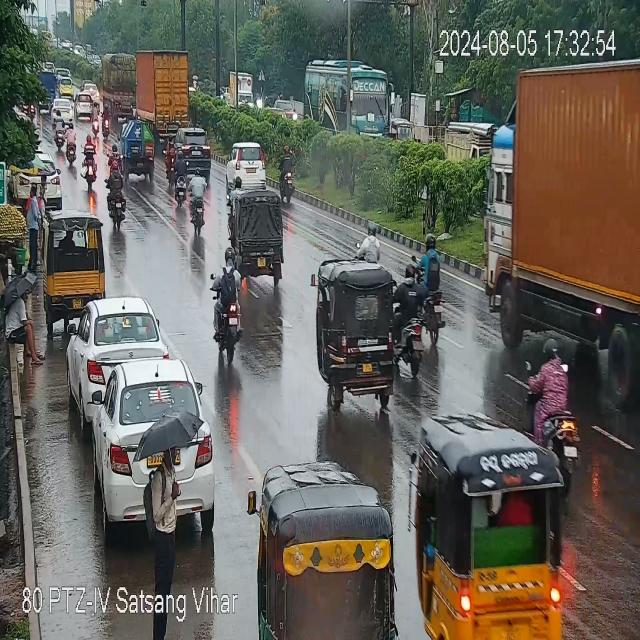2-wheelers: (400, 230, 446, 360), (527, 343, 580, 450), (210, 258, 247, 366), (107, 149, 126, 230), (186, 174, 208, 238), (274, 148, 299, 202), (169, 154, 193, 206), (359, 222, 385, 262), (83, 137, 97, 190), (92, 102, 111, 136), (54, 109, 66, 150), (66, 121, 76, 166)
auto: (415, 419, 572, 640), (249, 464, 394, 640), (318, 270, 400, 406), (45, 213, 108, 315), (226, 192, 287, 282), (116, 114, 158, 178), (393, 115, 411, 141)
bus: (305, 58, 393, 141)
car: (83, 360, 212, 534), (68, 297, 168, 398), (171, 128, 216, 171), (232, 141, 272, 184), (74, 92, 90, 118), (59, 74, 73, 97), (90, 81, 100, 102)
pedestrian: (153, 433, 182, 585), (6, 274, 42, 361), (25, 183, 44, 268)
truck: (492, 56, 640, 383), (138, 51, 202, 130), (101, 48, 138, 112), (447, 120, 489, 158), (230, 71, 252, 110)
